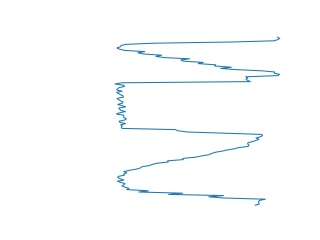distributaryChannelFill: (111, 72, 267, 141)
mouthBar: (113, 34, 283, 79)
underwaterDistributaryChannel: (114, 138, 269, 208)
